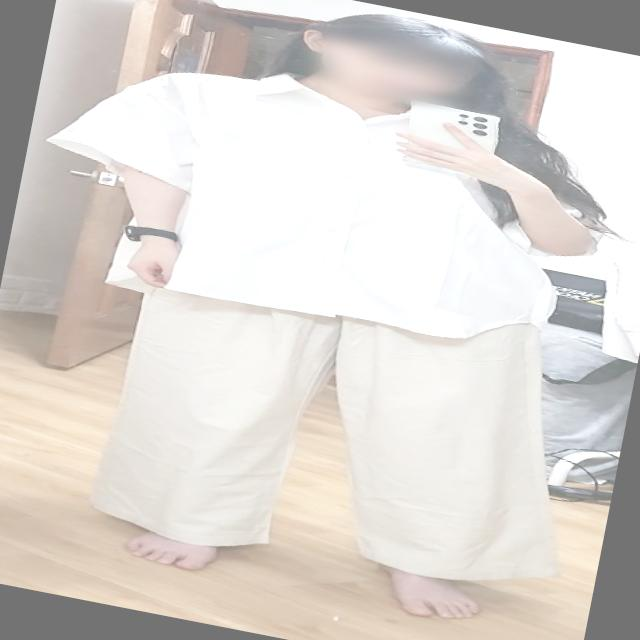cottonpants: (84, 248, 588, 613)
shirt: (26, 37, 620, 374)
